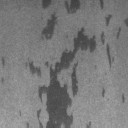red iron: (28, 27, 112, 128), (40, 0, 58, 41), (116, 18, 128, 39), (64, 0, 80, 14), (104, 14, 112, 26), (98, 0, 104, 10), (0, 56, 5, 67), (101, 87, 106, 98), (86, 121, 92, 128), (122, 93, 126, 103)
